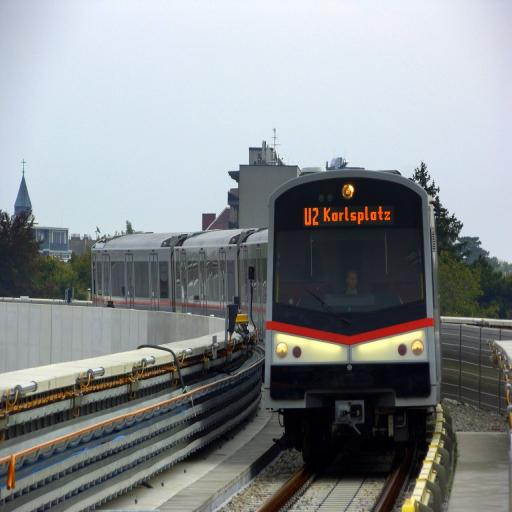V-Wagen: (90, 170, 441, 430)
